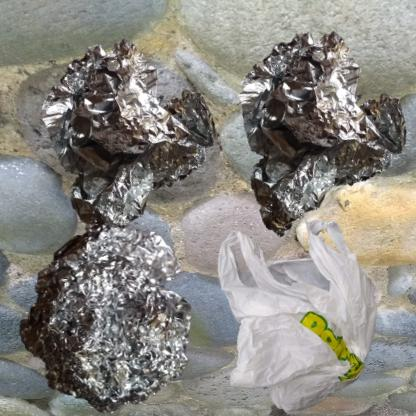aluminio: (10, 10, 276, 290), (213, 10, 416, 256), (10, 213, 204, 416)
bolsa: (213, 213, 391, 416)
